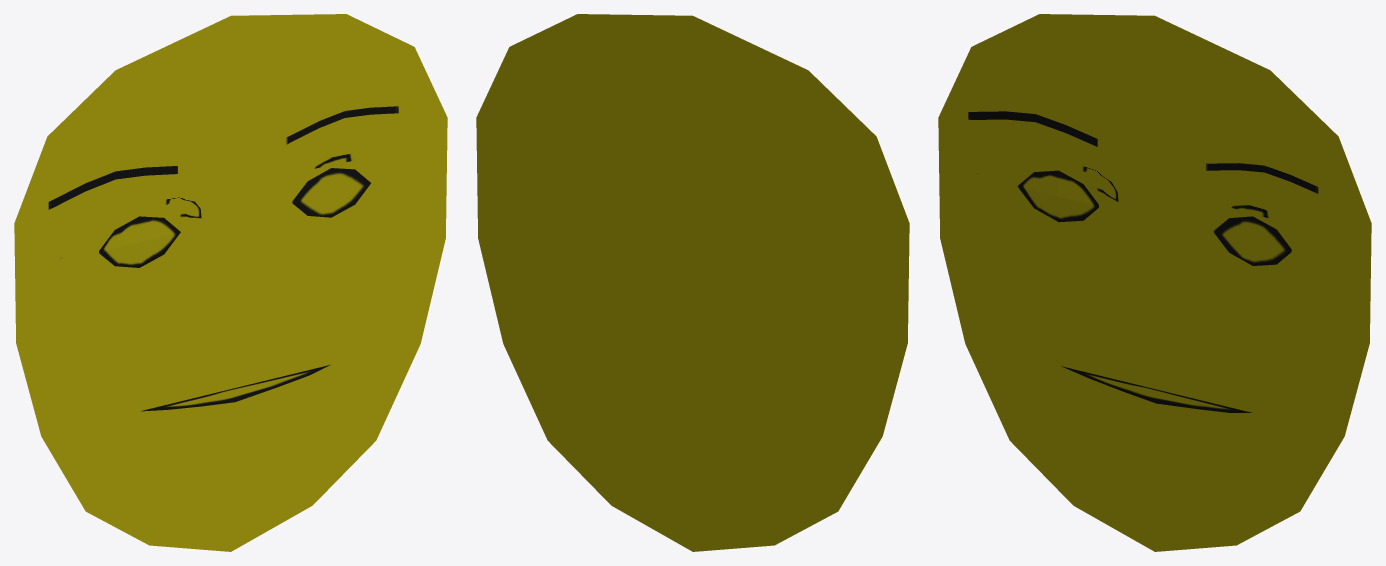
The model's file is basic_avatar_head-edit4.gltf.
3 renders of one model, left to right at view 1: azimuth 30°, elevation 25°; view 2: azimuth 150°, elevation 25°; view 3: azimuth 330°, elevation 25°, orthographic.
Parts seen in each view (by area): view 1: head, rightEye, leftEye, mouth, rightEyebrow, leftEyebrow; view 2: head; view 3: head, rightEye, leftEye, mouth, rightEyebrow, leftEyebrow.
Part boxes in pixels (box(x1,y1,x2,y2)): head: box(14, 14, 447, 551); rightEye: box(60, 193, 205, 308); leftEye: box(267, 139, 413, 249); mouth: box(141, 364, 330, 411); rightEyebrow: box(48, 166, 177, 209); leftEyebrow: box(286, 106, 398, 144); head: box(476, 14, 909, 551); head: box(938, 14, 1371, 551); rightEye: box(977, 140, 1122, 250); leftEye: box(1184, 194, 1330, 309); mouth: box(1061, 366, 1251, 412); rightEyebrow: box(968, 111, 1097, 146); leftEyebrow: box(1206, 163, 1318, 193).
Size of the model in its own units: 3.08 by 3.64 by 0.0437.
Materials: 6 (6 with a texture image).
